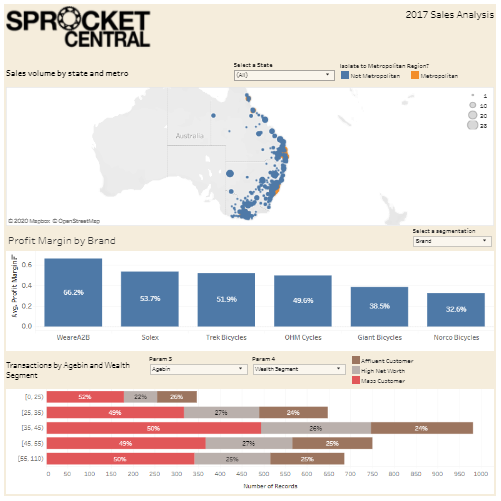

The dashboard page shown, as its layout file describes it:
{"tool":"tableau","page":{"name":"Dashboard 1","canvas":[1000,1000],"ordinal":0},"visuals":[{"type":"image","param":"C:/Users/Zachzazueta/AFOneDrive/OneDrive - Achievement First/Desktop/Misc/Person","box":[8,8,396,110]},{"type":"text","box":[404,8,588,40]},{"type":"blank","box":[404,48,588,70]},{"type":"text","box":[8,118,455,52]},{"type":"filter","title":"Sales volume by state and metro","param":"[federated.1fyy5f90zwf21j1gcnq2g0ou63z7].[none:state:nk]","box":[463,118,212,52]},{"type":"legend","title":"Sales volume by state and metro","param":"[federated.1fyy5f90zwf21j1gcnq2g0ou63z7].[none:metro:ok]","box":[675,118,317,52]},{"type":"worksheet","title":"Sales volume by state and metro","mark":"Automatic","box":[8,170,984,286]},{"type":"legend","title":"Sales volume by state and metro","param":"[federated.1fyy5f90zwf21j1gcnq2g0ou63z7].[sum:Number of Records:qk]","box":[931,180,50,82]},{"type":"parameter","param":"[Parameters].[Parameter 1]","box":[825,454,160,44]},{"type":"worksheet","title":"Profit Margin","mark":"Automatic","rows":["Calculation_1240741716315430914"],"cols":["Calculation_1240741716313284609"],"box":[8,456,984,250]},{"type":"text","box":[8,706,286,69]},{"type":"parameter","param":"[Parameters].[Parameter 1 1]","box":[294,706,206,69]},{"type":"parameter","param":"[Parameters].[Param 3 (copy)]","box":[500,706,196,69]},{"type":"legend","title":"Trans by Region and age","param":"[federated.1fyy5f90zwf21j1gcnq2g0ou63z7].[none:Parameter 3 Filter (copy):nk]","box":[696,706,296,69]},{"type":"worksheet","title":"Trans by Region and age","mark":"Automatic","rows":["Calculation_1240741716313284609"],"cols":["Number of Records"],"box":[8,775,984,217]}]}

Visuals, with their boxes in screenshot pixels (x1, y1, x2, y2), scaled from the page's 1000x1000 canvas onto the 501x501 screenshot:
image: (4, 4, 202, 59)
text: (202, 4, 497, 24)
blank: (202, 24, 497, 59)
text: (4, 59, 232, 85)
"Sales volume by state and metro" filter: (232, 59, 338, 85)
"Sales volume by state and metro" legend: (338, 59, 497, 85)
"Sales volume by state and metro" worksheet: (4, 85, 497, 228)
"Sales volume by state and metro" legend: (466, 90, 491, 131)
parameter: (413, 227, 493, 249)
"Profit Margin" worksheet: (4, 228, 497, 354)
text: (4, 354, 147, 388)
parameter: (147, 354, 250, 388)
parameter: (250, 354, 349, 388)
"Trans by Region and age" legend: (349, 354, 497, 388)
"Trans by Region and age" worksheet: (4, 388, 497, 497)
